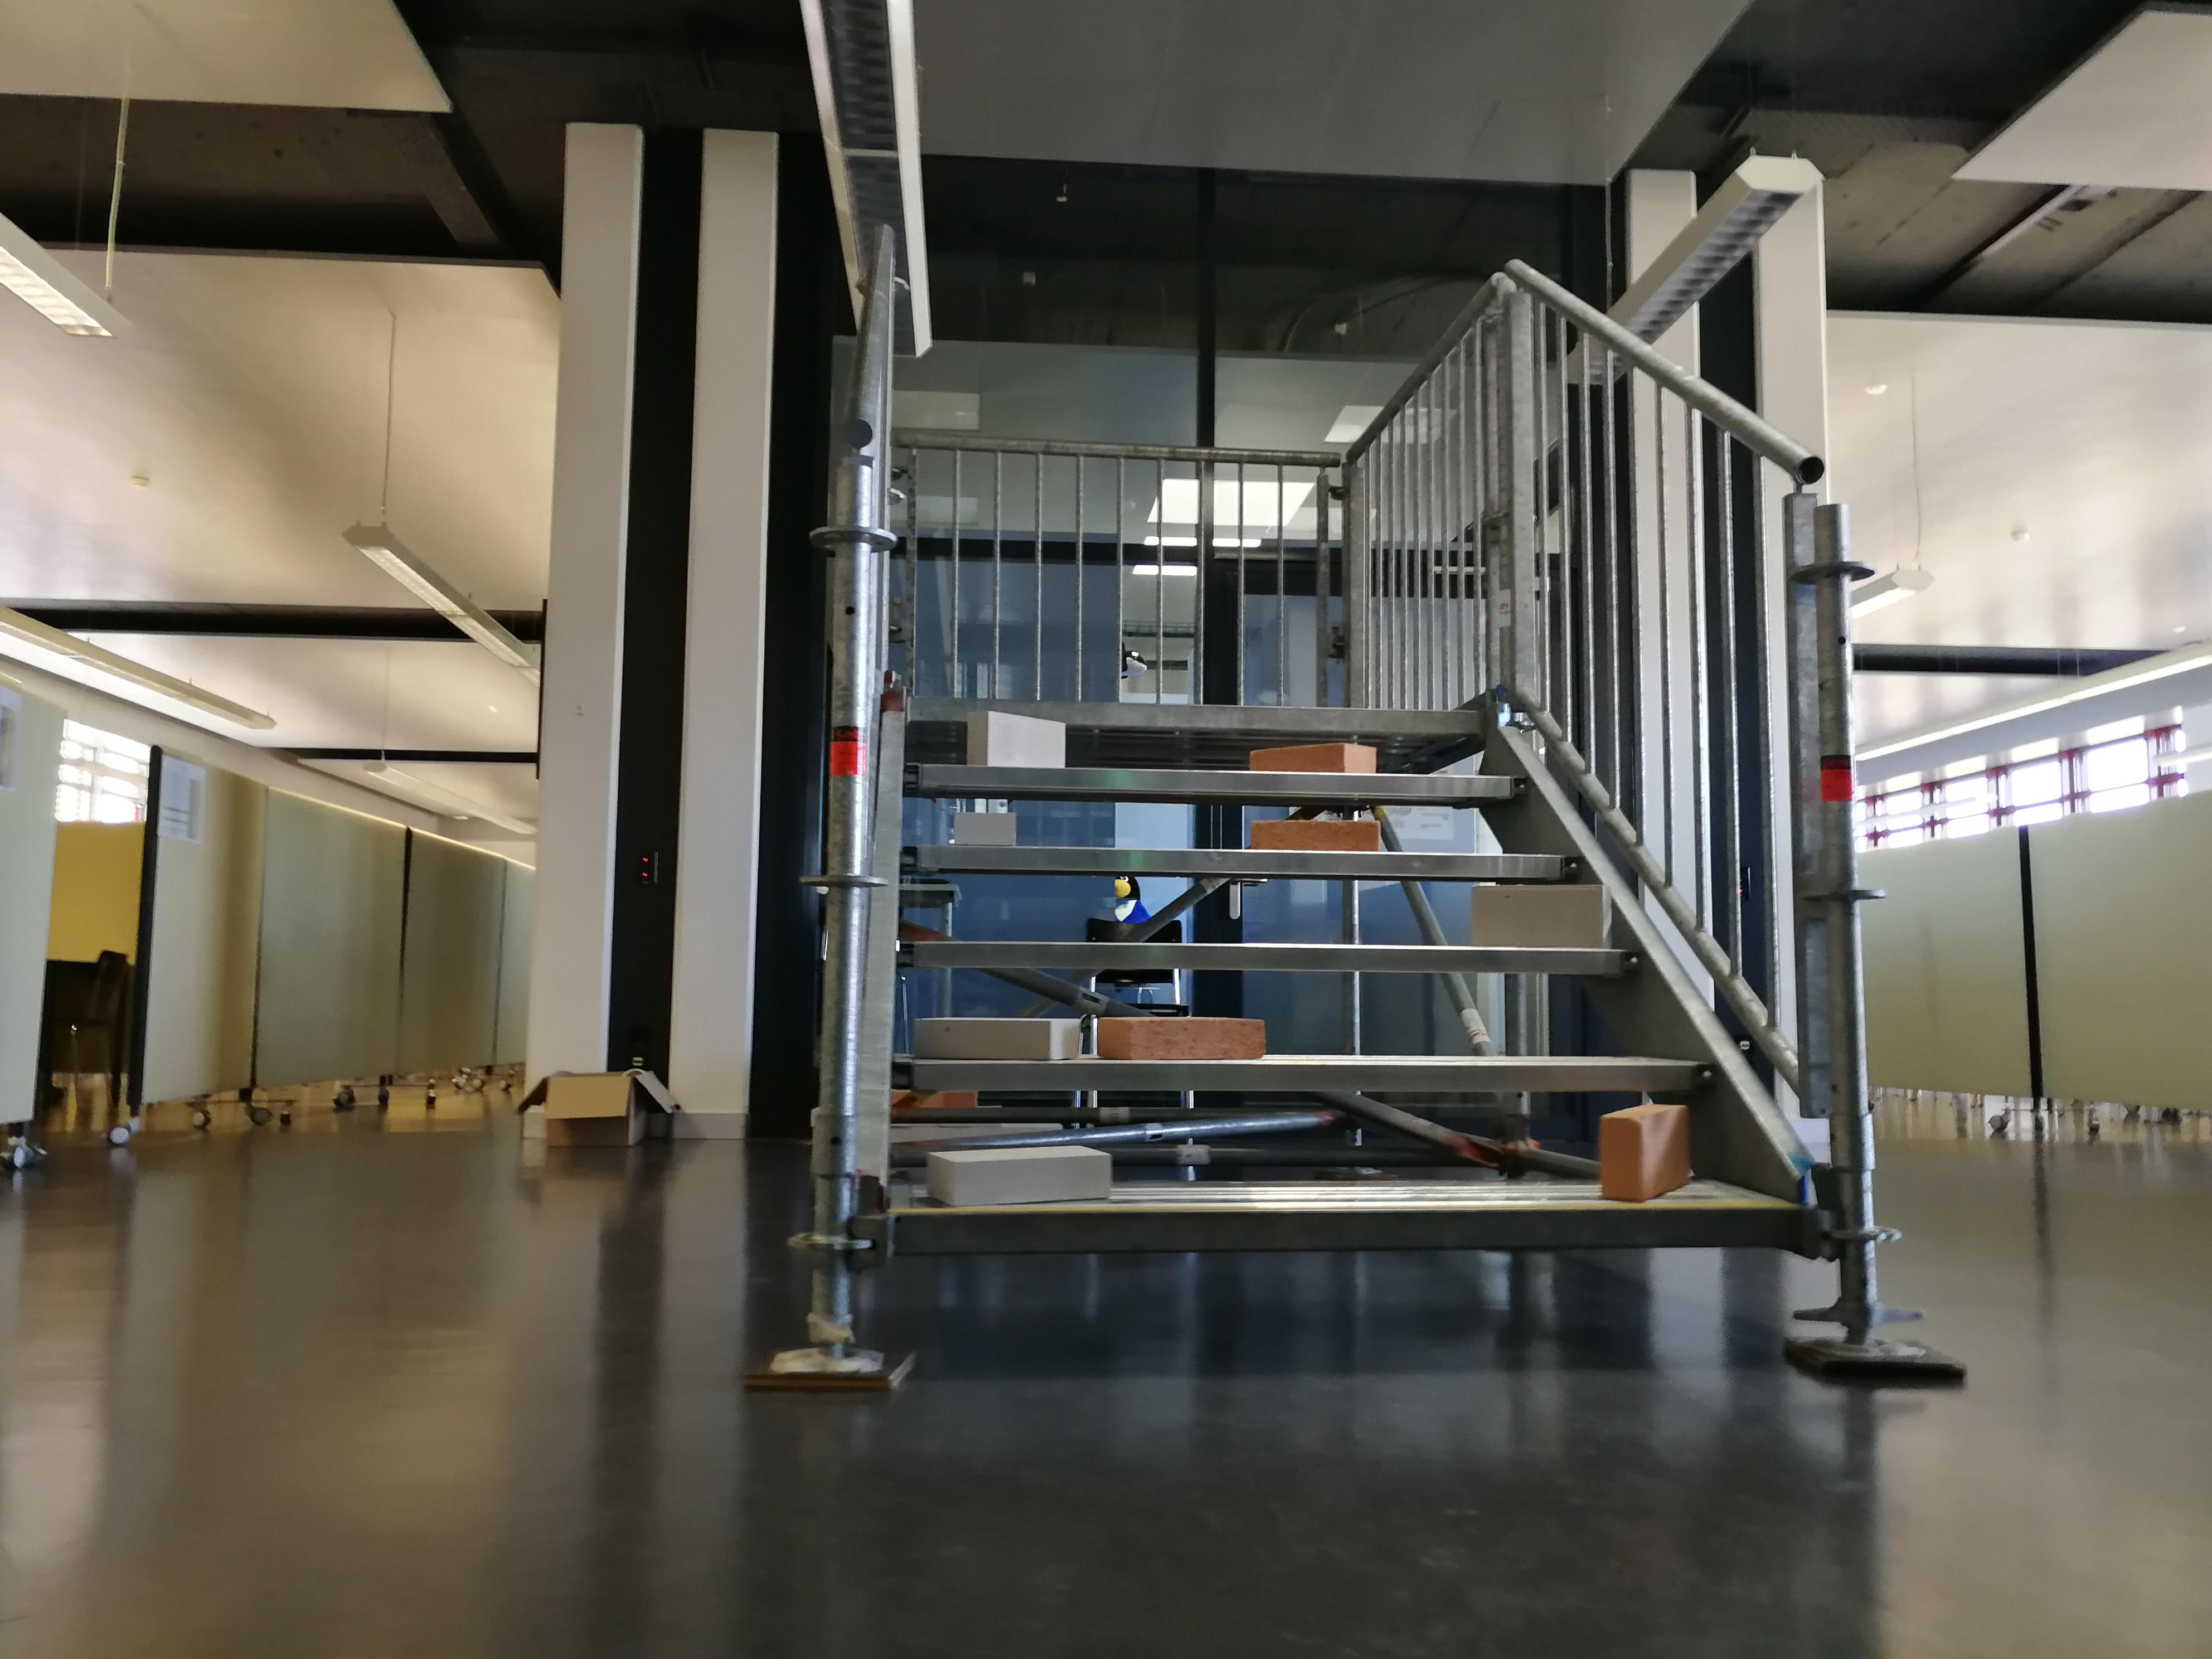brick: (923, 1143, 1111, 1206), (1468, 885, 1609, 948), (1601, 1101, 1688, 1199), (1097, 1016, 1263, 1058), (916, 1016, 1080, 1058), (968, 711, 1064, 769), (1249, 741, 1376, 777), (1251, 819, 1381, 850), (958, 814, 1014, 845)
edge: (892, 1209, 1808, 1248), (888, 1056, 1716, 1094), (892, 838, 1588, 880), (888, 939, 1646, 976), (906, 760, 1531, 800), (906, 694, 1487, 732)
stairs: (740, 227, 1963, 1401)
steps: (885, 671, 1818, 1262)
